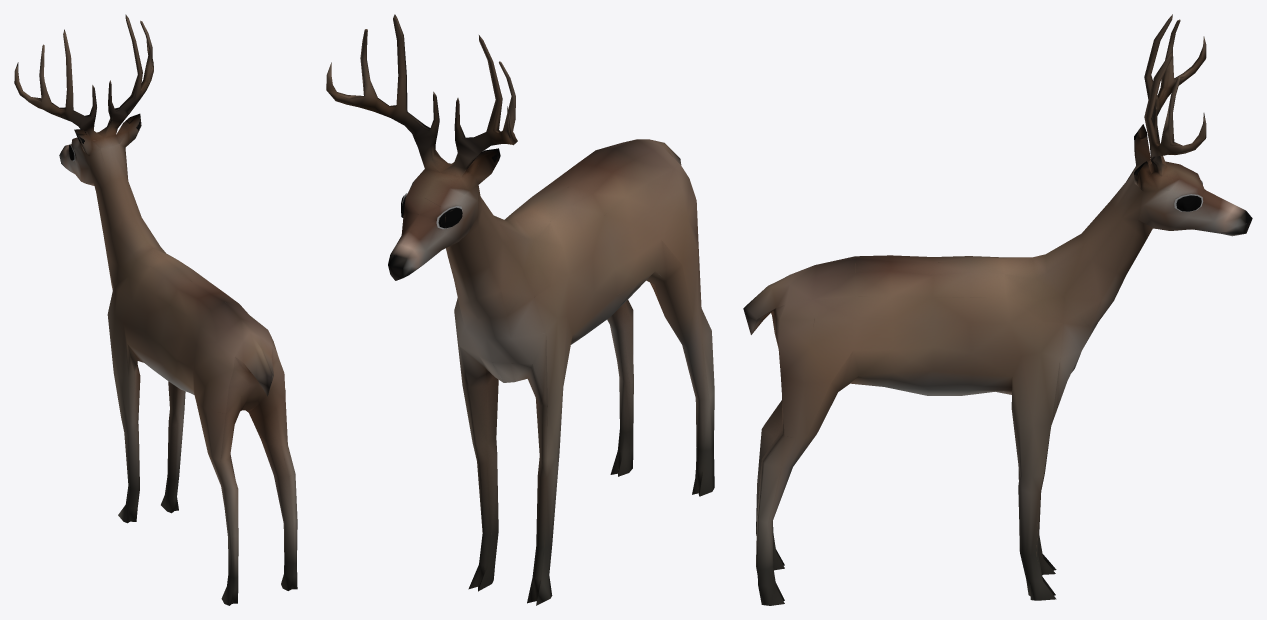
The model's file is deerMale.obj.
3 renders of one model, left to right at view 1: azimuth 30°, elevation 25°; view 2: azimuth 150°, elevation 25°; view 3: azimuth 270°, elevation 25°, orthographic. The views are drawn at different scales.
Parts seen in each view (by area): view 1: alt584.001_Mesh.001; view 2: alt584.001_Mesh.001; view 3: alt584.001_Mesh.001.
Boxes of the visible parts, <box> form: alt584.001_Mesh.001: <box>14,14,297,605</box>; alt584.001_Mesh.001: <box>326,14,714,605</box>; alt584.001_Mesh.001: <box>743,14,1252,605</box>.
Size of the model in its own units: 0.7578 by 2.4 by 2.01.
1 material, 1 textured.
